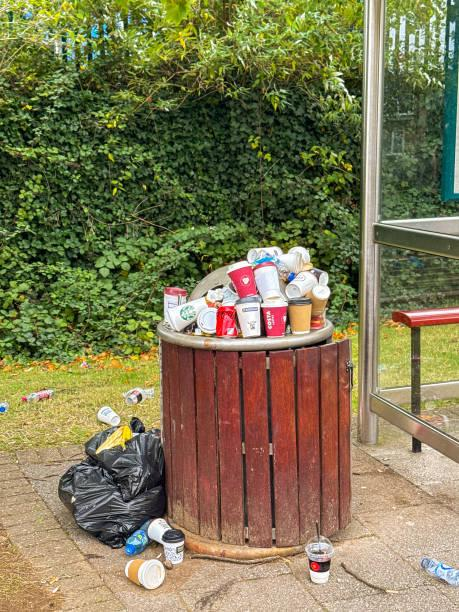trash: (160, 246, 331, 339), (52, 454, 171, 539), (95, 407, 171, 500), (306, 523, 352, 595), (158, 281, 199, 326), (264, 242, 308, 278), (411, 554, 459, 586), (286, 298, 318, 344), (192, 290, 223, 334), (226, 256, 257, 300), (123, 369, 157, 409), (264, 291, 290, 342), (306, 283, 336, 327), (296, 258, 338, 289), (215, 301, 243, 342), (21, 379, 59, 409), (278, 266, 317, 294), (159, 528, 194, 559), (251, 259, 280, 296), (146, 511, 178, 542), (237, 293, 262, 328), (95, 396, 119, 431), (114, 558, 155, 578), (133, 506, 148, 558), (243, 244, 273, 267), (0, 397, 16, 420)
trash_can_overflow: (48, 217, 401, 605)
